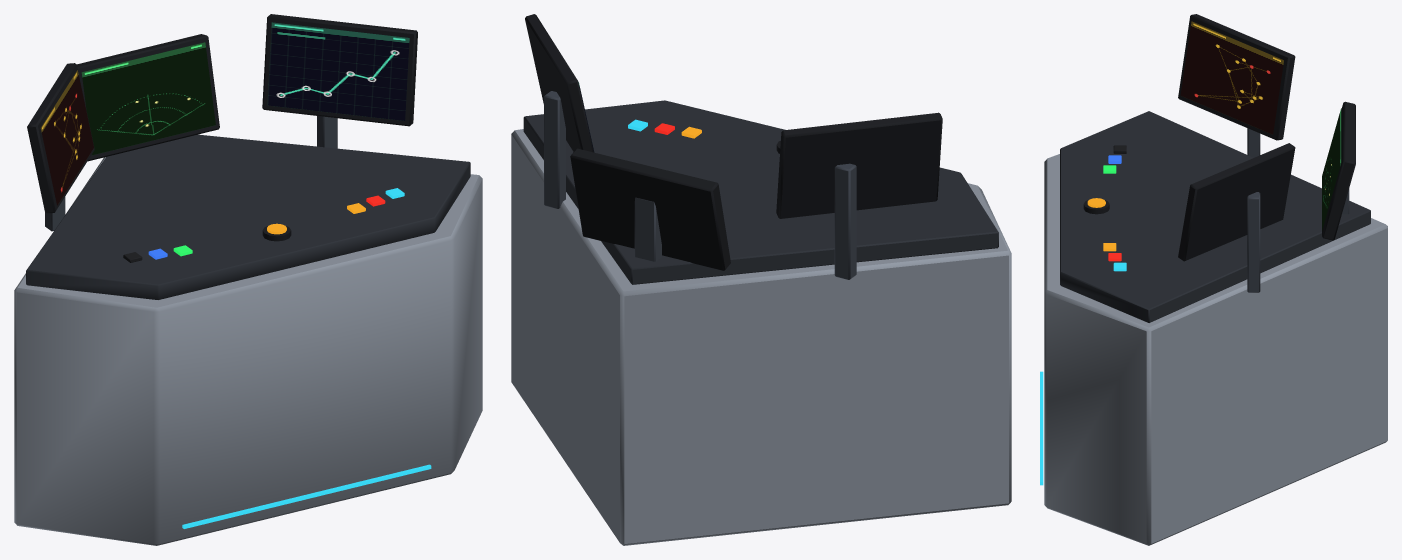
File: console_corner.glb
3 renders of one model, left to right at view 1: azimuth 30°, elevation 25°; view 2: azimuth 150°, elevation 25°; view 3: azimuth 270°, elevation 25°, orthographic. The views are drawn at different scales.
Parts seen in each view (by area): view 1: console_corner; view 2: console_corner; view 3: console_corner.
Part boxes in pixels (box(x1,y1,x2,y2)): console_corner: box(14, 14, 482, 545); console_corner: box(511, 14, 1011, 545); console_corner: box(1040, 14, 1387, 545).
Bounding box in the file's own units: 1.88 × 1.45 × 1.33.
Materials: 13 (3 with a texture image).
